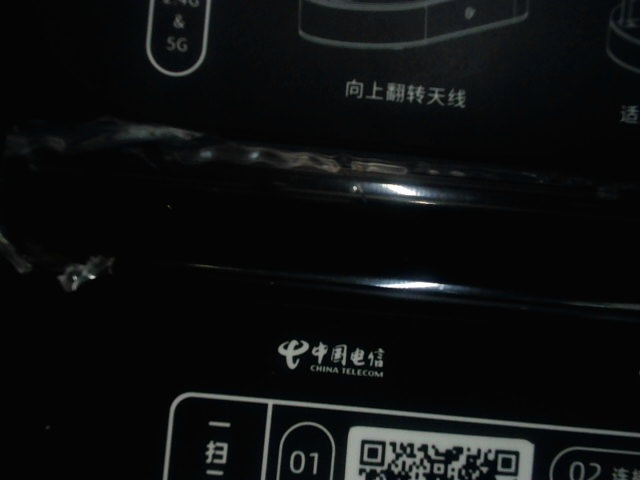AB_ChinaTelecom: (270, 326, 398, 382)
